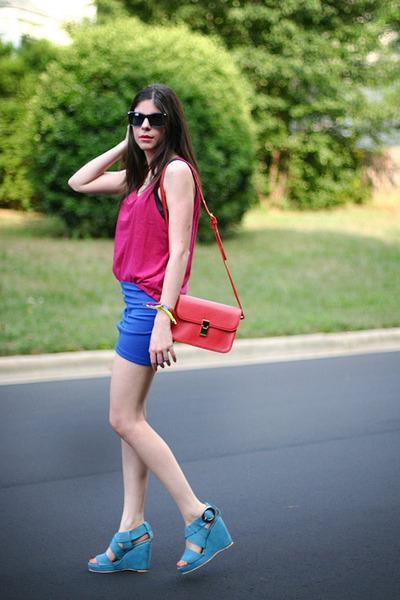bag: (170, 276, 243, 352)
shirt: (112, 189, 169, 302)
shoe: (88, 500, 232, 571)
shorts: (116, 281, 156, 363)
sunglass: (123, 97, 155, 131)
